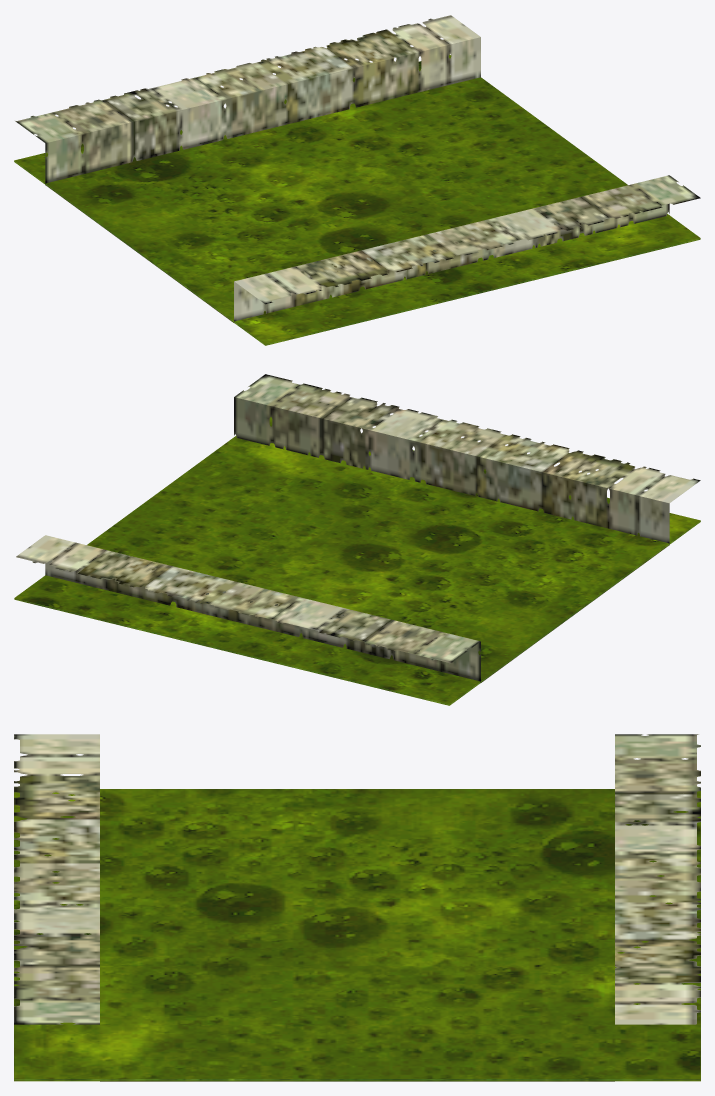
The model's file is sewerFloorStraight.fbx.
The picture shows the model from 3 angles, top to bottom: view 1: azimuth 30°, elevation 25°; view 2: azimuth 150°, elevation 25°; view 3: azimuth 270°, elevation 25°; orthographic projection. The views are drawn at different scales.
Visible parts, largest first — view 1: waterPlaneC01, sewerFloorStraight, waterPlaneB01, waterPlaneA01; view 2: waterPlaneC01, sewerFloorStraight, waterPlaneB01, waterPlaneA01; view 3: waterPlaneC01, sewerFloorStraight, waterPlaneA01, waterPlaneB01.
Part boxes in pixels (x1=…): waterPlaneC01: x1=14, y1=54, x2=700, y2=344; sewerFloorStraight: x1=15, y1=15, x2=700, y2=322; waterPlaneB01: x1=14, y1=161, x2=700, y2=345; waterPlaneA01: x1=14, y1=161, x2=700, y2=344; waterPlaneC01: x1=14, y1=417, x2=700, y2=704; sewerFloorStraight: x1=16, y1=374, x2=700, y2=682; waterPlaneB01: x1=14, y1=521, x2=700, y2=705; waterPlaneA01: x1=14, y1=521, x2=700, y2=704; waterPlaneC01: x1=14, y1=789, x2=700, y2=1079; sewerFloorStraight: x1=14, y1=734, x2=700, y2=1024; waterPlaneA01: x1=14, y1=1079, x2=700, y2=1080; waterPlaneB01: x1=14, y1=1080, x2=700, y2=1081.
Size of the model in its own units: 300 by 27.54 by 300.
4 materials, 4 textured.
